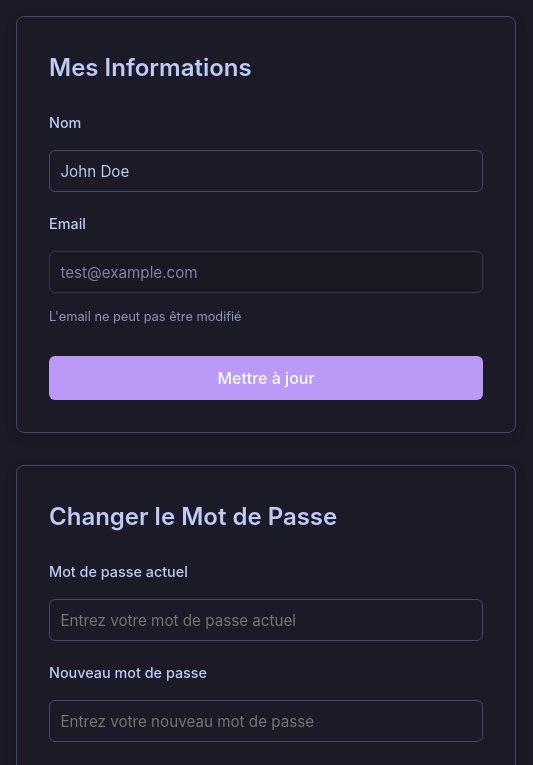
UserProfile › should update user information successfully
Replace the text in the field labelled "Nom" with "Jane Doe" at (266, 171), box 49,150 -> 483,192
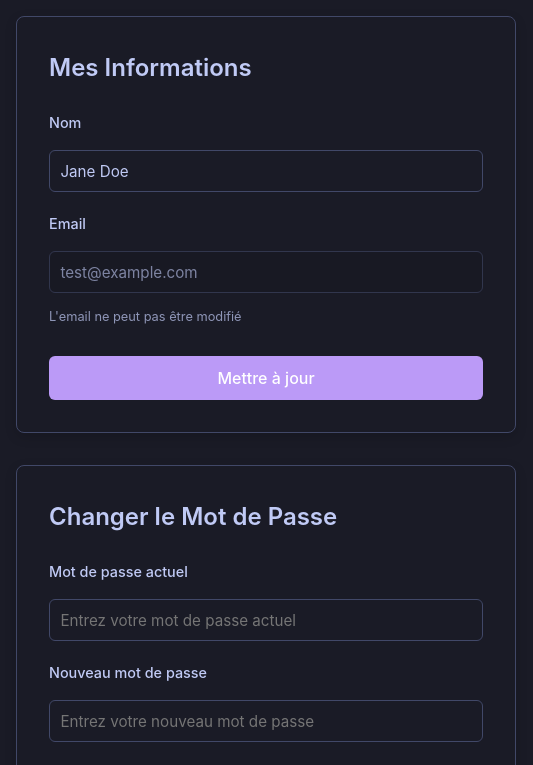
Click the button "Mettre à jour" at (266, 378), box 49,356 -> 483,400
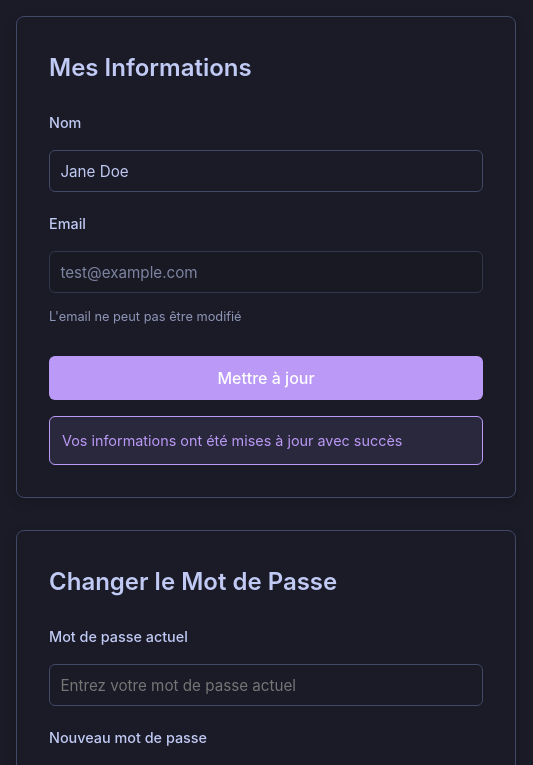
expect the text "Vos informations ont été mises à jour avec succès" is shown: met, box 49,416 -> 483,465
